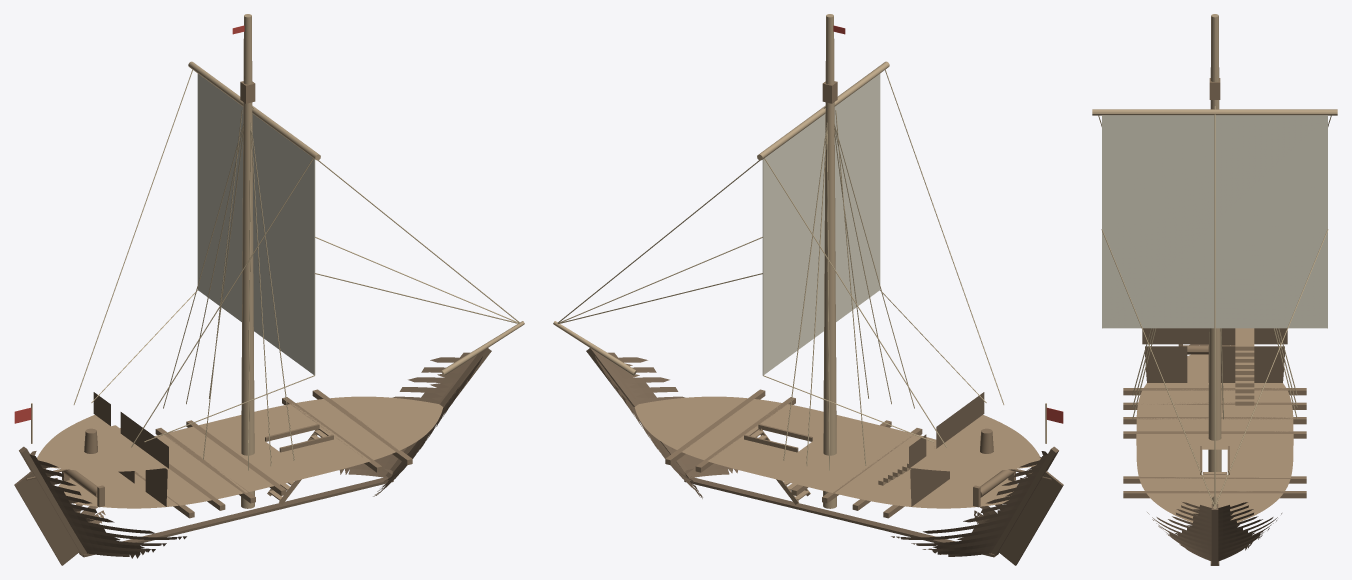
Rendered from bremen-cog-far.glb.
3 views of the same model, side by side, from view 1: azimuth 30°, elevation 25°; view 2: azimuth 150°, elevation 25°; view 3: azimuth 270°, elevation 25° (orthographic). The views are drawn at different scales.
Parts seen in each view (by area): view 1: square-sail, deck, hull, rope, mast, rudder, keel-plank, yard, stern-post, stem-post, deck-beam-fwd-01-array.02, deck-beam-aft-01-array.04; view 2: square-sail, deck, hull, rope, mast, rudder, keel-plank, yard, stern-post, stem-post, deck-beam-fwd-01-array.02; view 3: square-sail, deck, hull, rope, mast, yard, deck-beam-fwd-01-array.02, deck-beam-aft-01-array.04, deck-beam-aft-01, deck-beam-aft-01-array.03, deck-beam-fwd-01, stem-post (+1 smaller).
Part boxes in pixels (bbox=[...]): square-sail: bbox=[197, 74, 315, 375]; deck: bbox=[37, 396, 443, 508]; hull: bbox=[29, 352, 482, 558]; rope: bbox=[73, 70, 520, 470]; mast: bbox=[241, 14, 254, 508]; rudder: bbox=[14, 471, 79, 565]; keel-plank: bbox=[79, 477, 393, 557]; yard: bbox=[188, 61, 320, 160]; stern-post: bbox=[19, 446, 86, 555]; stem-post: bbox=[386, 347, 491, 477]; deck-beam-fwd-01-array.02: bbox=[312, 389, 412, 465]; deck-beam-aft-01-array.04: bbox=[186, 420, 286, 495]; square-sail: bbox=[762, 74, 880, 375]; deck: bbox=[634, 396, 1040, 508]; hull: bbox=[595, 352, 1048, 556]; rope: bbox=[557, 70, 1004, 470]; mast: bbox=[823, 14, 836, 508]; rudder: bbox=[998, 471, 1063, 565]; keel-plank: bbox=[684, 477, 998, 557]; yard: bbox=[757, 61, 889, 160]; stern-post: bbox=[991, 446, 1058, 555]; stem-post: bbox=[586, 347, 691, 477]; deck-beam-fwd-01-array.02: bbox=[665, 389, 765, 465]; square-sail: bbox=[1102, 115, 1327, 328]; deck: bbox=[1136, 328, 1293, 522]; hull: bbox=[1142, 328, 1287, 561]; rope: bbox=[1098, 106, 1331, 504]; mast: bbox=[1208, 14, 1221, 471]; yard: bbox=[1092, 109, 1337, 115]; deck-beam-fwd-01-array.02: bbox=[1123, 491, 1306, 498]; deck-beam-aft-01-array.04: bbox=[1123, 431, 1306, 438]; deck-beam-aft-01: bbox=[1123, 388, 1306, 395]; deck-beam-aft-01-array.03: bbox=[1123, 417, 1306, 424]; deck-beam-fwd-01: bbox=[1123, 476, 1306, 483]; stem-post: bbox=[1211, 504, 1218, 565].
Bounding box in the file's own units: 26.66 × 25.21 × 11.5.
